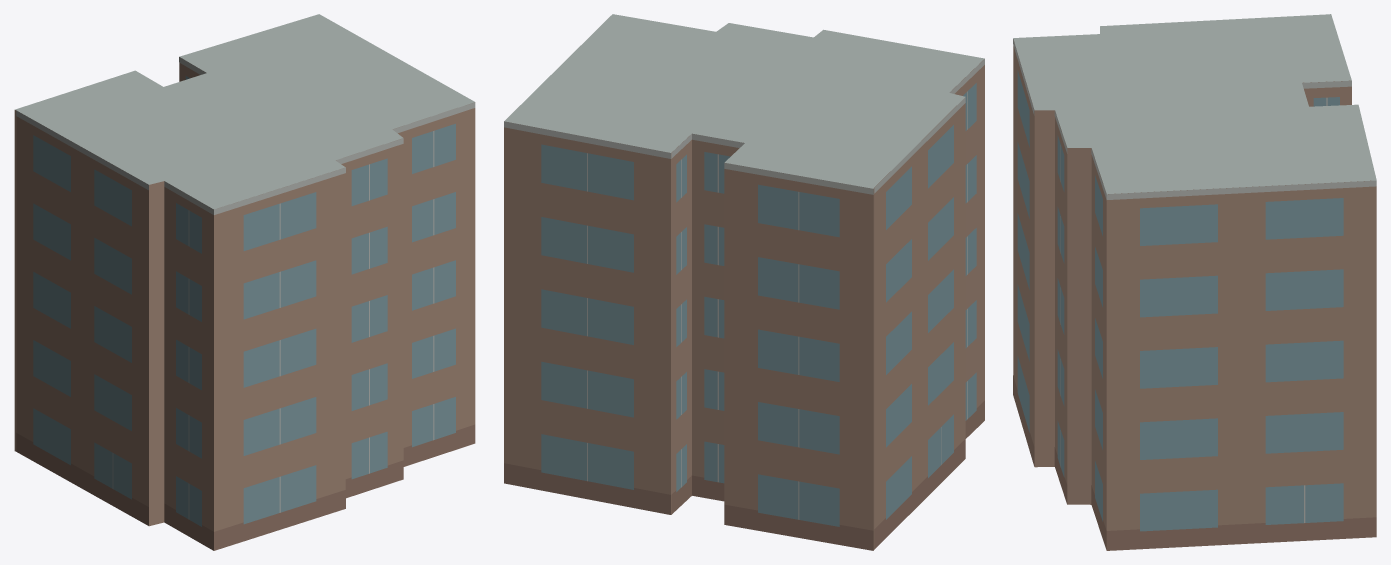
Rendered from survey-upis-32956881.glb.
The picture shows the model from 3 angles, left to right: view 1: azimuth 30°, elevation 25°; view 2: azimuth 150°, elevation 25°; view 3: azimuth 270°, elevation 25°; orthographic projection. The views are drawn at different scales.
Visible parts, largest first — view 1: survey-upis-32956881.tmp; view 2: survey-upis-32956881.tmp; view 3: survey-upis-32956881.tmp.
Part boxes in pixels (box(x1,y1,x2,y2)): survey-upis-32956881.tmp: box(14, 14, 475, 550); survey-upis-32956881.tmp: box(504, 14, 984, 550); survey-upis-32956881.tmp: box(1013, 14, 1376, 550).
Size of the model in its own units: 15.77 by 14.55 by 13.45.
